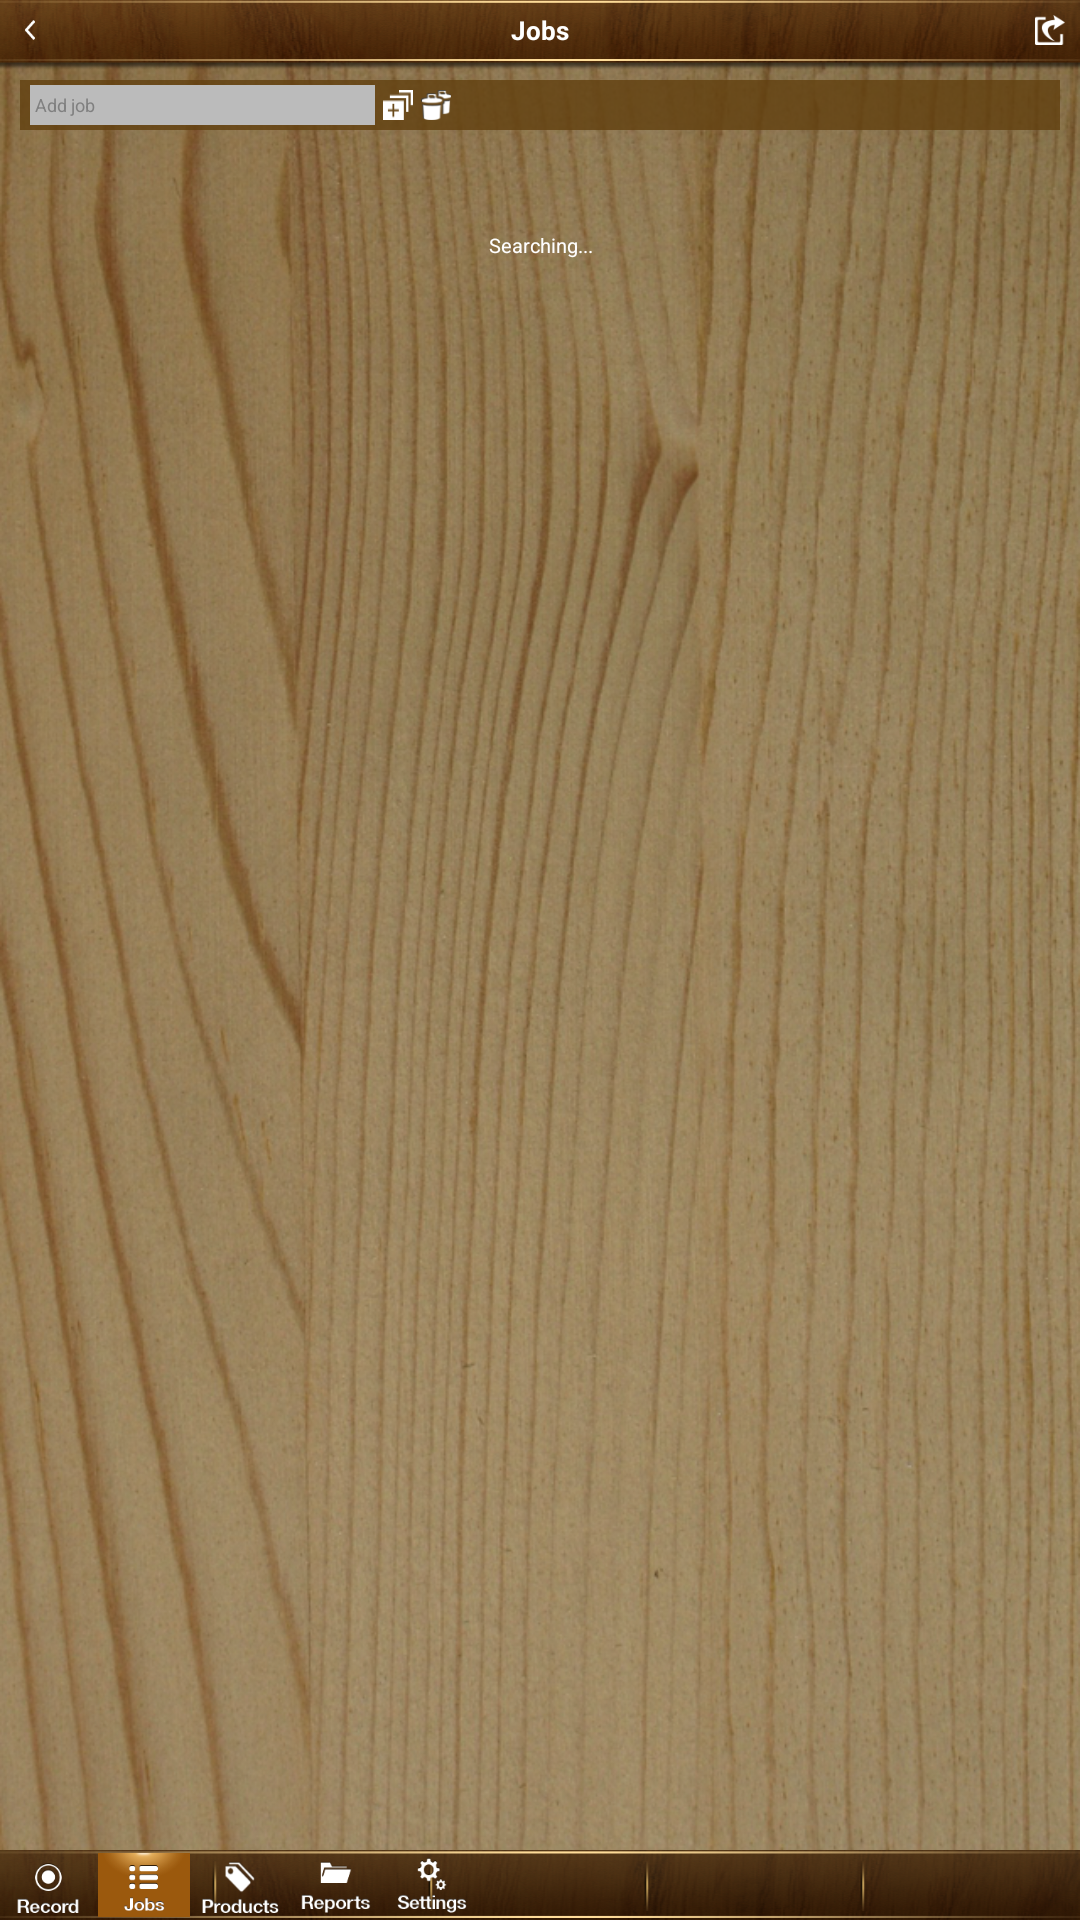

Icon bounding boxes for this 1080 × 1920 phone screenshot, format (x1, y1, x2, y2):
job delete: (421, 90, 451, 120)
